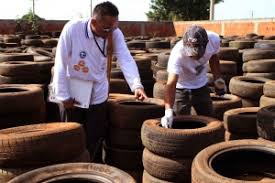tire: (1, 120, 89, 168), (192, 137, 275, 182), (143, 115, 224, 152), (139, 147, 219, 181), (97, 94, 176, 127), (1, 84, 45, 117), (186, 92, 244, 115), (223, 109, 275, 133), (1, 59, 56, 77), (229, 74, 274, 96)
